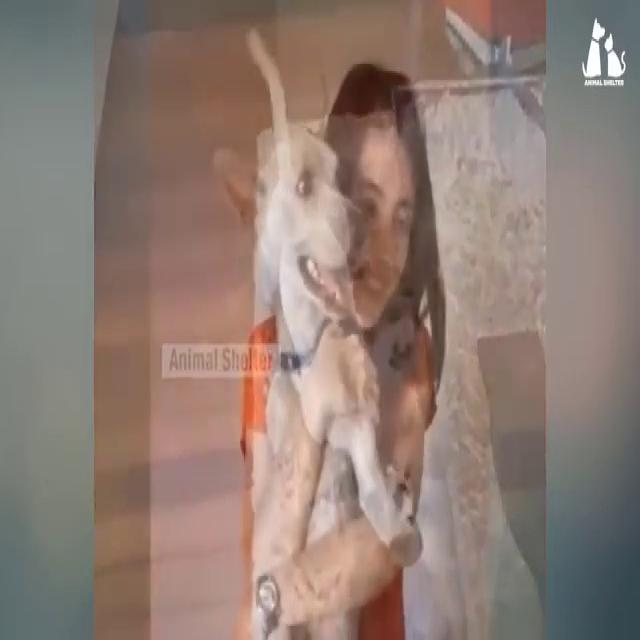normal_animals: (221, 27, 447, 631)
